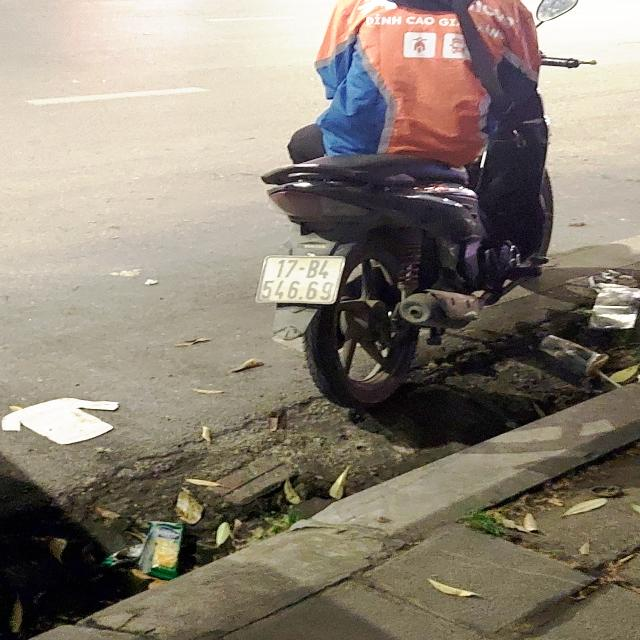license_plate: (258, 257, 345, 304)
